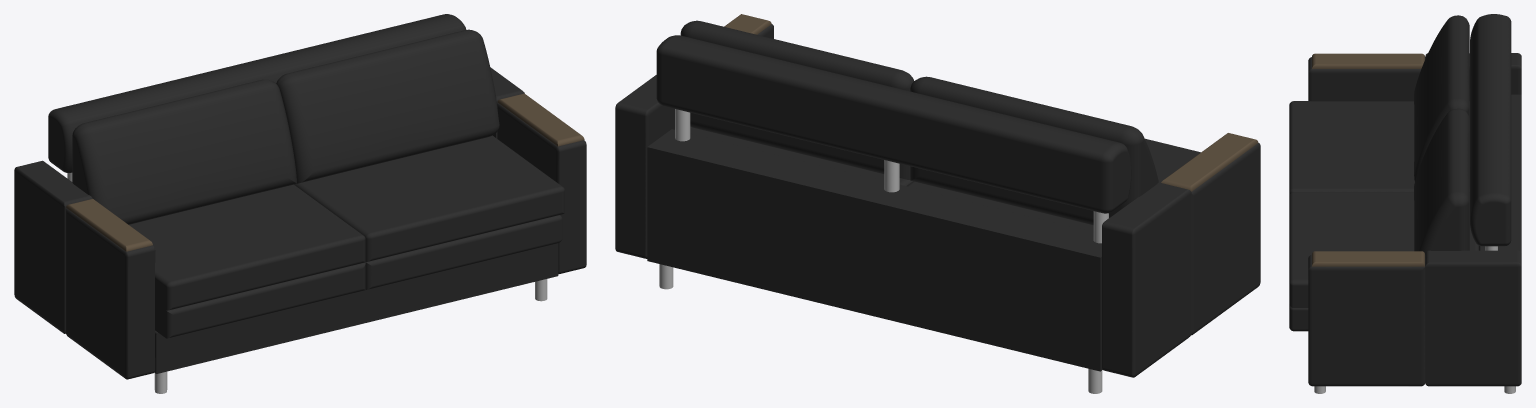
Rendered from sofa.glb.
3 renders of one model, left to right at view 1: azimuth 30°, elevation 25°; view 2: azimuth 150°, elevation 25°; view 3: azimuth 270°, elevation 25°, orthographic. The views are drawn at different scales.
Parts seen in each view (by area): view 1: Fillet15_4_3, Fillet15_3_2, Fillet7_4_10, Fillet7_3_9, Fillet18_6_4, Fillet2_4_6, Fillet14_2_1, Fillet3_4_8, Fillet9_2_11, Fillet2_3_5, Fillet10_2_0, Fillet20_3_21 (+2 smaller); view 2: Fillet18_6_4, Fillet14_2_1, Fillet3_4_8, Fillet2_4_6, Fillet15_3_2, Fillet15_4_3, Fillet3_3_7, Fillet7_3_9, Fillet20_4_22, Fillet7_4_10, Fillet20_3_21; view 3: Fillet2_3_5, Fillet3_3_7, Fillet7_3_9, Fillet14_2_1, Fillet7_4_10, Fillet15_4_3, Fillet15_3_2, Fillet2_4_6, Fillet18_6_4, Fillet20_3_21, Fillet20_4_22, Fillet3_4_8 (+1 smaller).
Part boxes in pixels (<box>): Fillet15_4_3: <box>276,29,499,183</box>; Fillet15_3_2: <box>72,79,296,224</box>; Fillet7_4_10: <box>294,135,564,261</box>; Fillet7_3_9: <box>129,184,365,310</box>; Fillet18_6_4: <box>154,243,558,373</box>; Fillet2_4_6: <box>65,208,155,379</box>; Fillet14_2_1: <box>48,14,466,172</box>; Fillet3_4_8: <box>14,160,92,333</box>; Fillet9_2_11: <box>155,262,365,338</box>; Fillet2_3_5: <box>497,102,586,274</box>; Fillet10_2_0: <box>365,215,562,289</box>; Fillet20_3_21: <box>497,93,584,146</box>; Fillet18_6_4: <box>647,129,1102,371</box>; Fillet14_2_1: <box>656,35,1131,213</box>; Fillet3_4_8: <box>1102,182,1191,377</box>; Fillet2_4_6: <box>1191,143,1260,335</box>; Fillet15_3_2: <box>910,76,1158,225</box>; Fillet15_4_3: <box>680,20,913,179</box>; Fillet3_3_7: <box>615,75,674,258</box>; Fillet7_3_9: <box>907,138,1200,231</box>; Fillet20_4_22: <box>1161,133,1258,191</box>; Fillet7_4_10: <box>690,126,912,186</box>; Fillet20_3_21: <box>724,14,771,34</box>; Fillet2_3_5: <box>1308,254,1425,386</box>; Fillet3_3_7: <box>1425,250,1521,386</box>; Fillet7_3_9: <box>1289,101,1469,194</box>; Fillet14_2_1: <box>1470,14,1511,246</box>; Fillet7_4_10: <box>1289,192,1478,307</box>; Fillet15_4_3: <box>1414,108,1469,253</box>; Fillet15_3_2: <box>1414,15,1469,180</box>; Fillet2_4_6: <box>1308,57,1425,101</box>; Fillet18_6_4: <box>1479,94,1521,252</box>; Fillet20_3_21: <box>1312,251,1424,266</box>; Fillet20_4_22: <box>1312,53,1424,68</box>; Fillet3_4_8: <box>1425,53,1521,100</box>.
Bounding box in the file's own units: 1.71 × 0.7564 × 0.7965.
